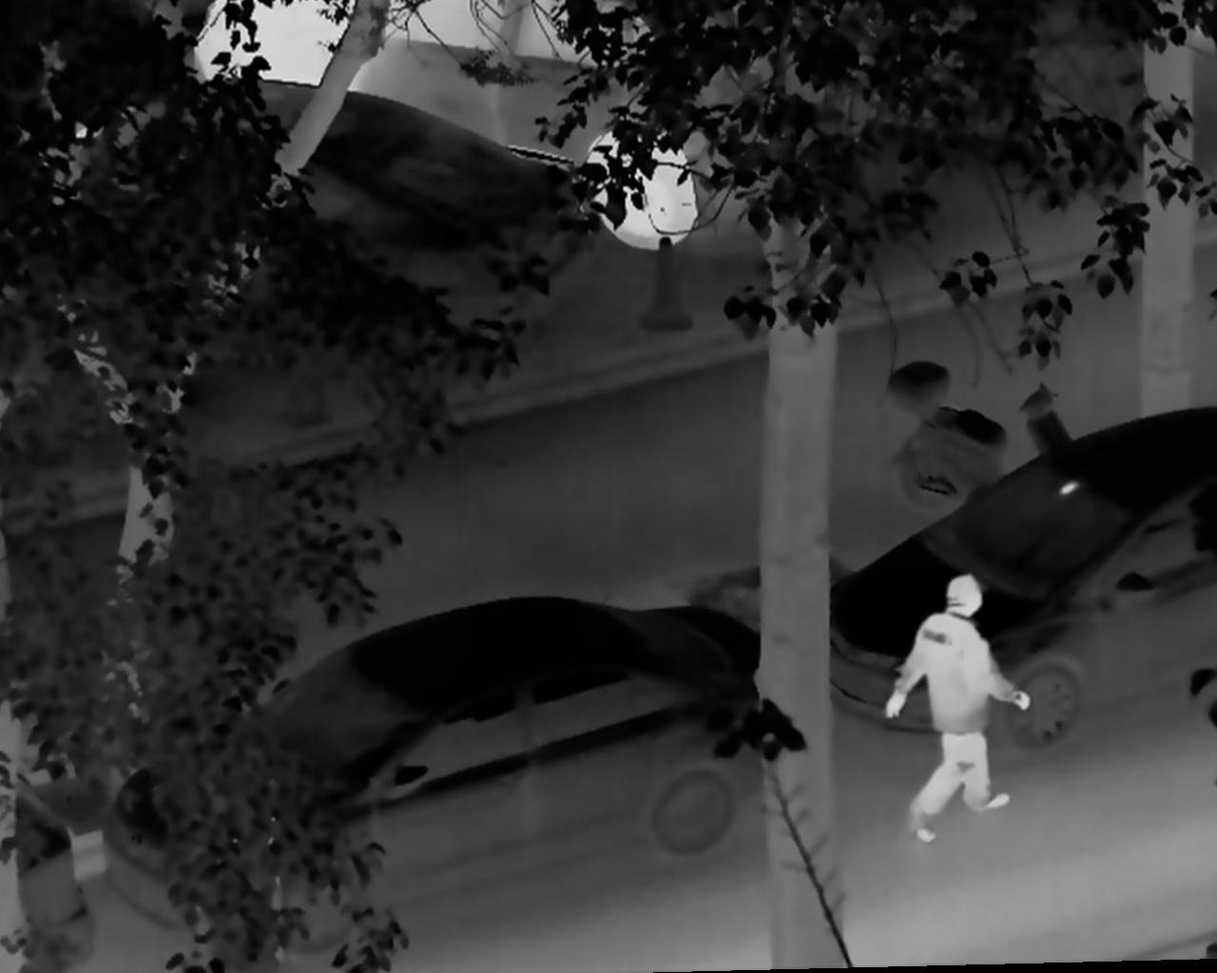person: (881, 569, 1033, 848)
